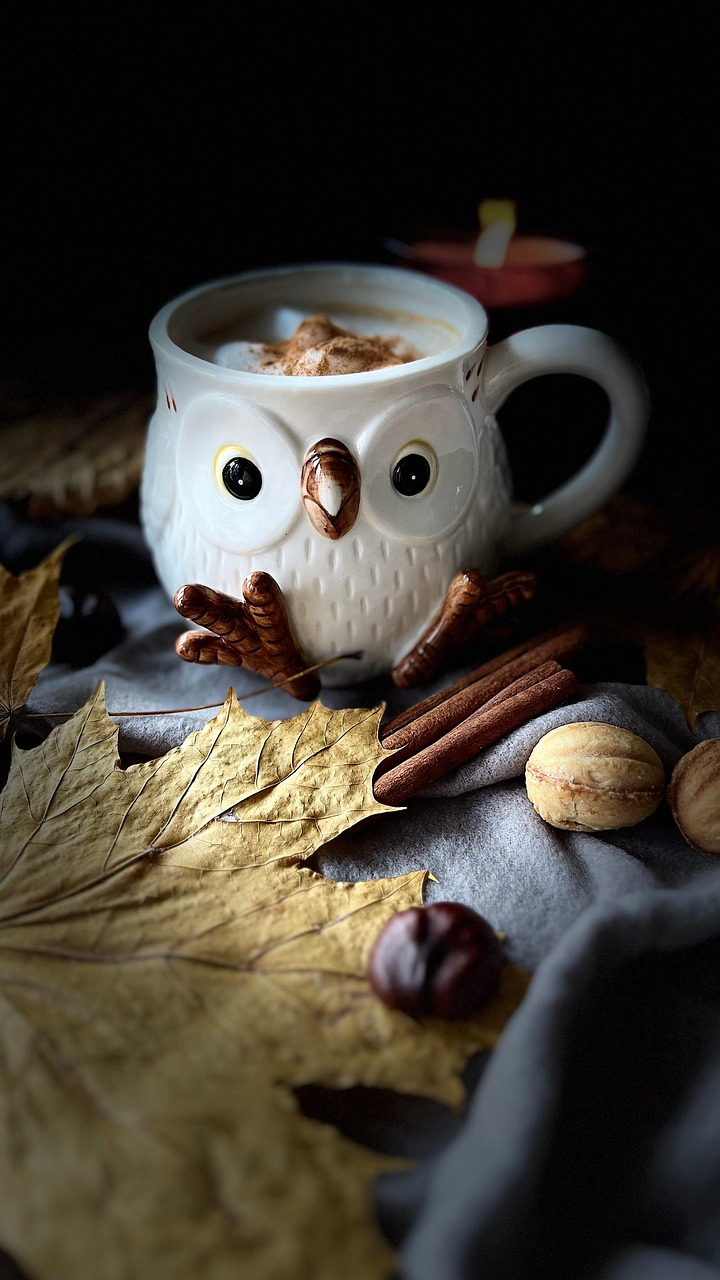mug: (118, 246, 673, 695)
